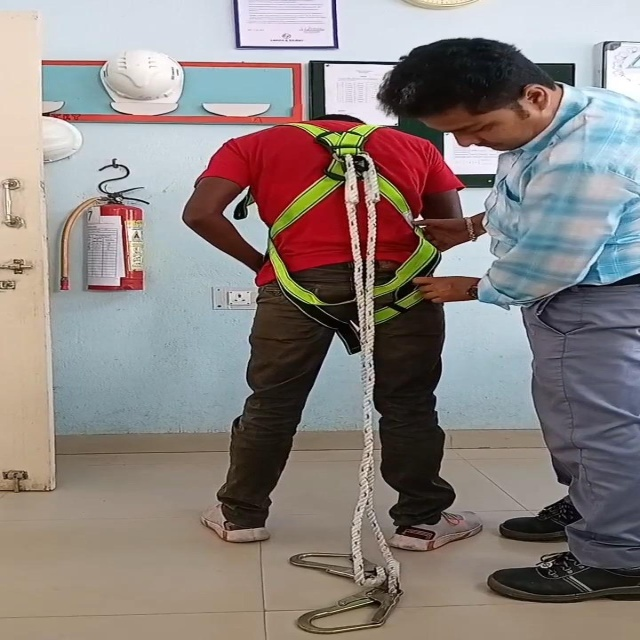Arnes_seguridad: (235, 116, 459, 341)
